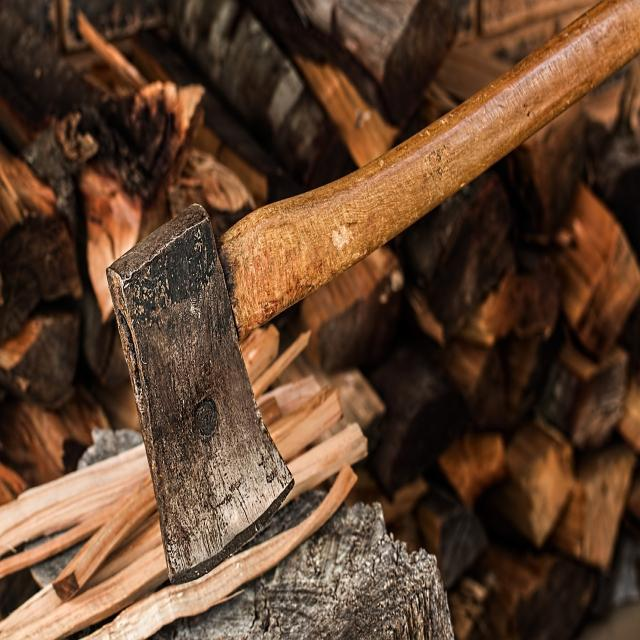Axe: (109, 0, 640, 580)
